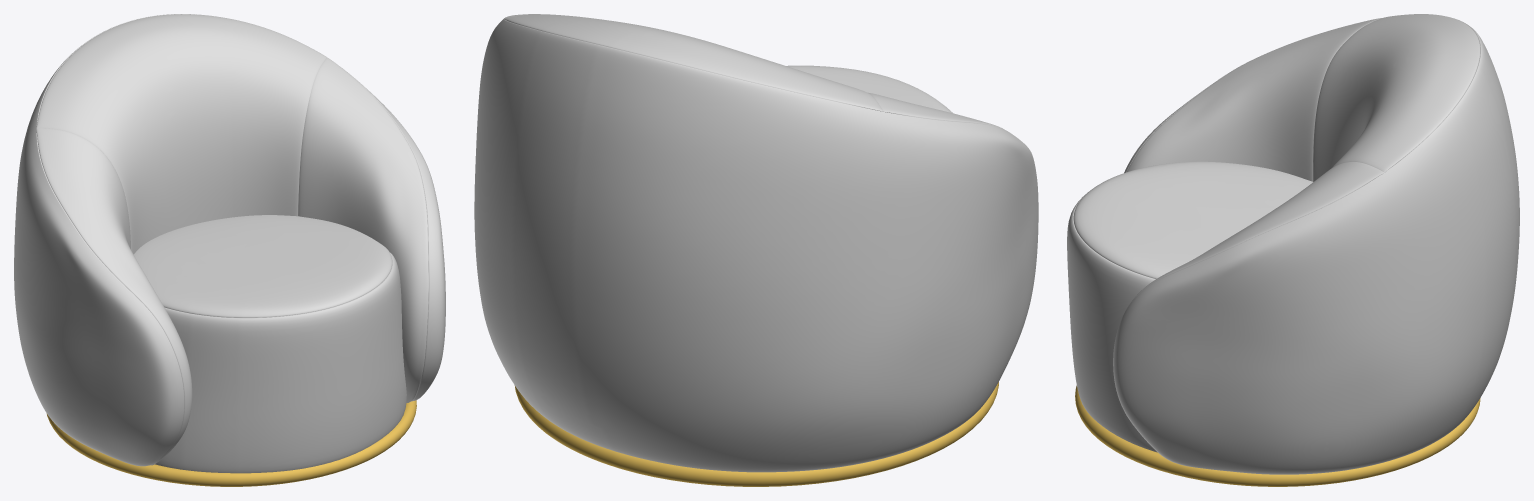
Rendered from SLN_LAVINIA_1STR.glb.
3 renders of one model, left to right at view 1: azimuth 30°, elevation 25°; view 2: azimuth 150°, elevation 25°; view 3: azimuth 270°, elevation 25°, orthographic. The views are drawn at different scales.
Parts seen in each view (by area): view 1: LAVINIA_1STR; view 2: LAVINIA_1STR; view 3: LAVINIA_1STR.
Part boxes in pixels (x1,y1,x2,y2): LAVINIA_1STR: (14,14,445,486); LAVINIA_1STR: (474,14,1038,486); LAVINIA_1STR: (1067,14,1519,486).
Size of the model in its own units: 0.8727 by 0.7431 by 0.8549.
